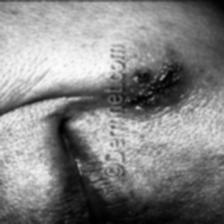Toxin: (129, 66, 186, 102)
